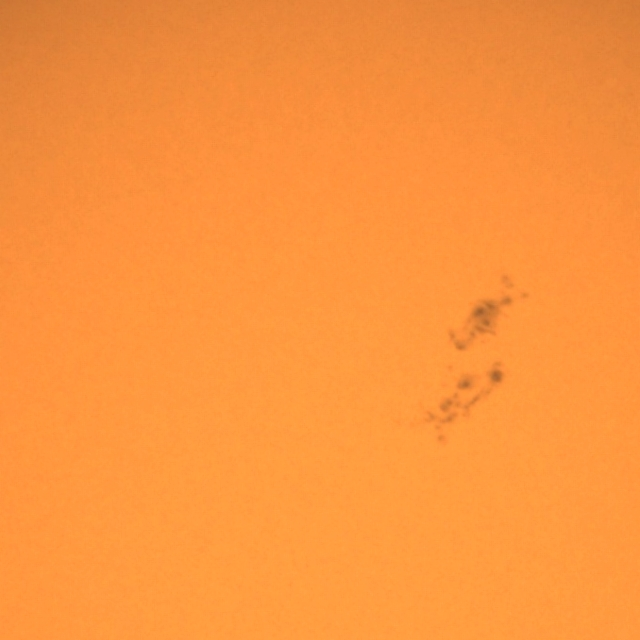sunspot: (431, 368, 504, 422), (421, 387, 482, 447), (461, 292, 520, 341), (485, 358, 508, 390)
